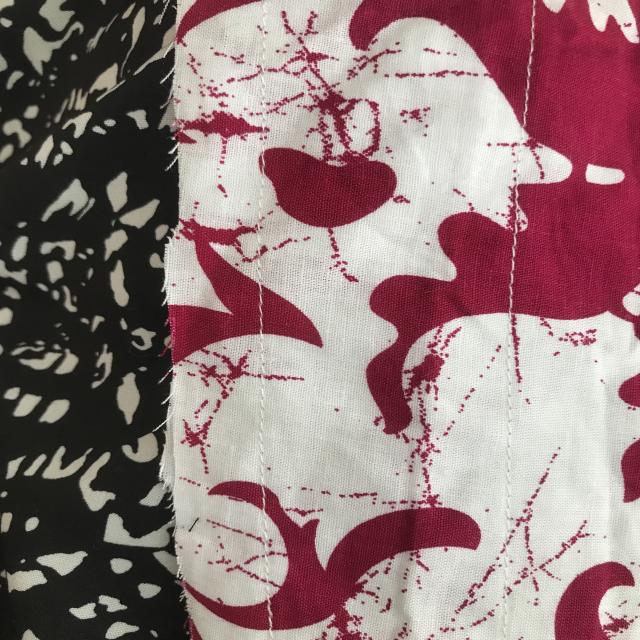good: (514, 22, 552, 102), (497, 414, 523, 496), (246, 281, 286, 333), (502, 232, 524, 300), (253, 389, 272, 464)
